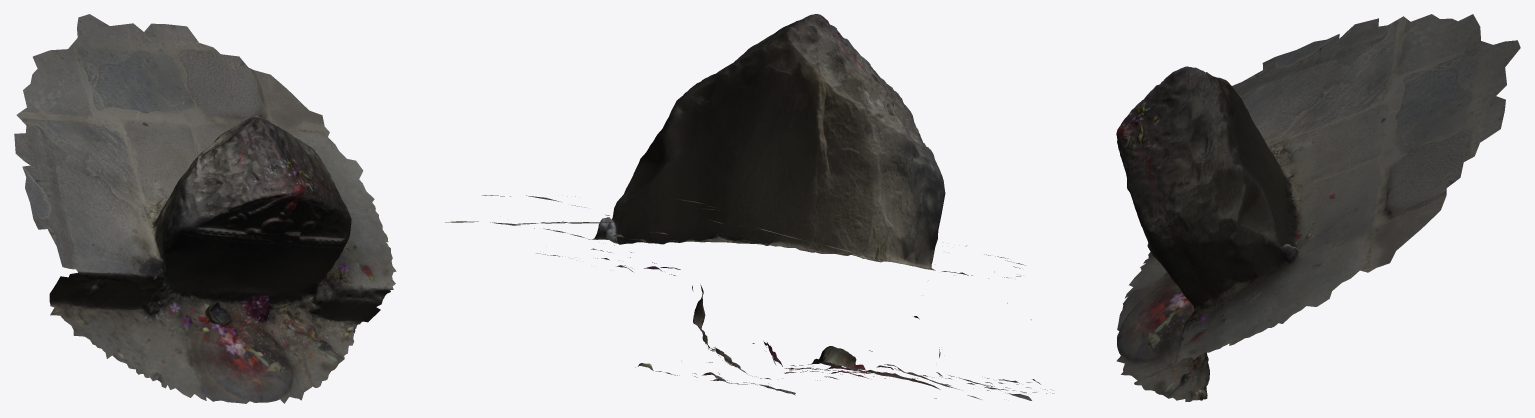
The model's file is BhagwanPauAdjacent.glb.
3 views of the same model, side by side, from view 1: azimuth 30°, elevation 25°; view 2: azimuth 150°, elevation 25°; view 3: azimuth 270°, elevation 25° (orthographic). The views are drawn at different scales.
Size of the model in its own units: 29.77 by 21.89 by 26.14.
Materials: 10 (10 with a texture image).
